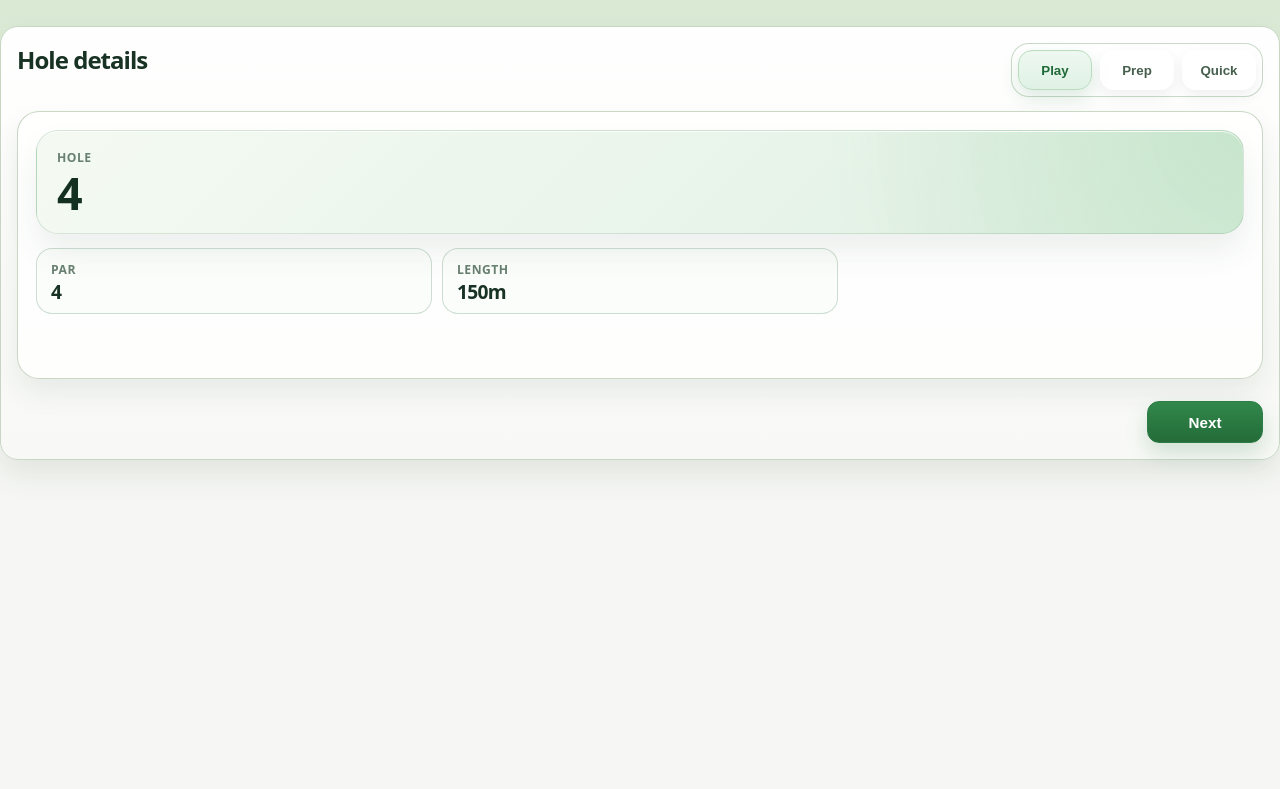
Test: VirtualCaddyPanel › enters the putting flow after a green hit and tracks putts
Click the button "Next" at (1205, 422), box top-left (1147, 401), bottom-right (1263, 443)
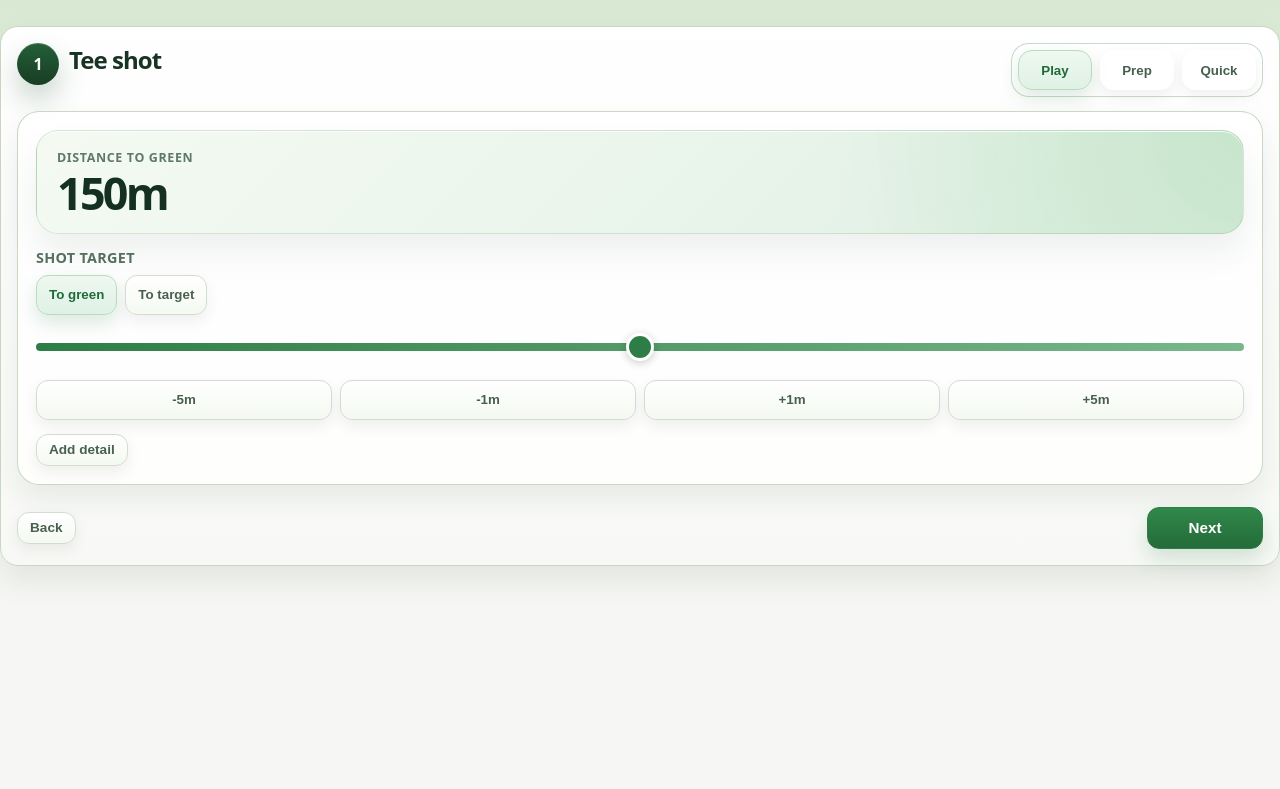
Click the button "Next" at (1205, 528), box top-left (1147, 506), bottom-right (1263, 548)
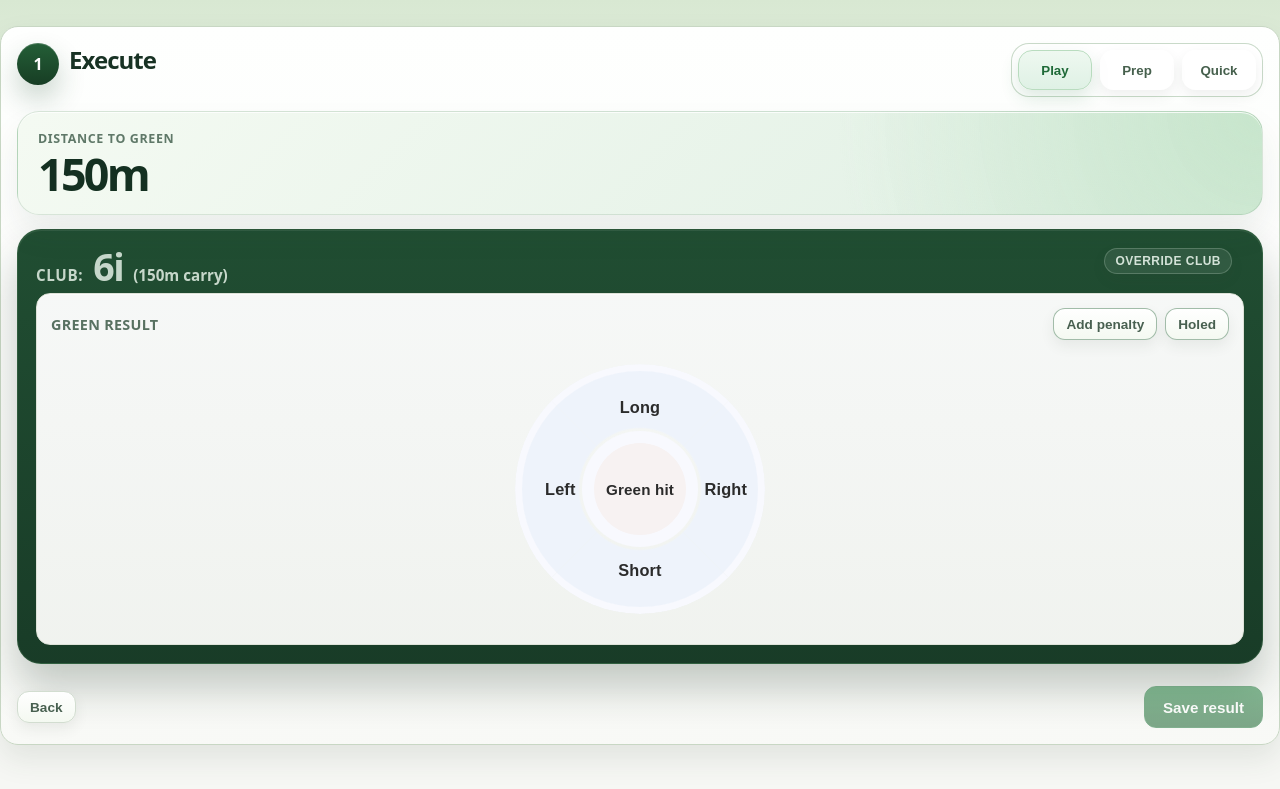
Click the button "Green hit" at (640, 489), box top-left (594, 443), bottom-right (686, 535)
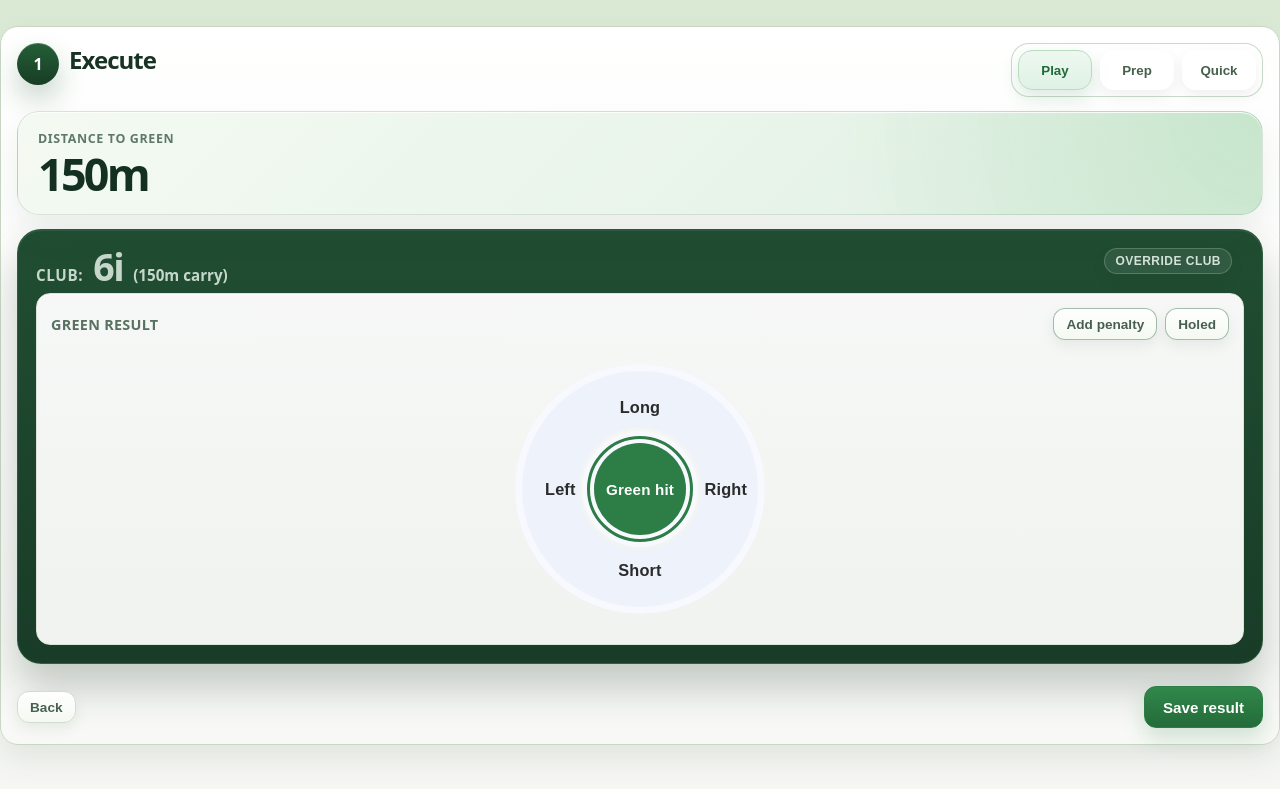
Click the button "Save result" at (1203, 707), box top-left (1144, 686), bottom-right (1263, 728)
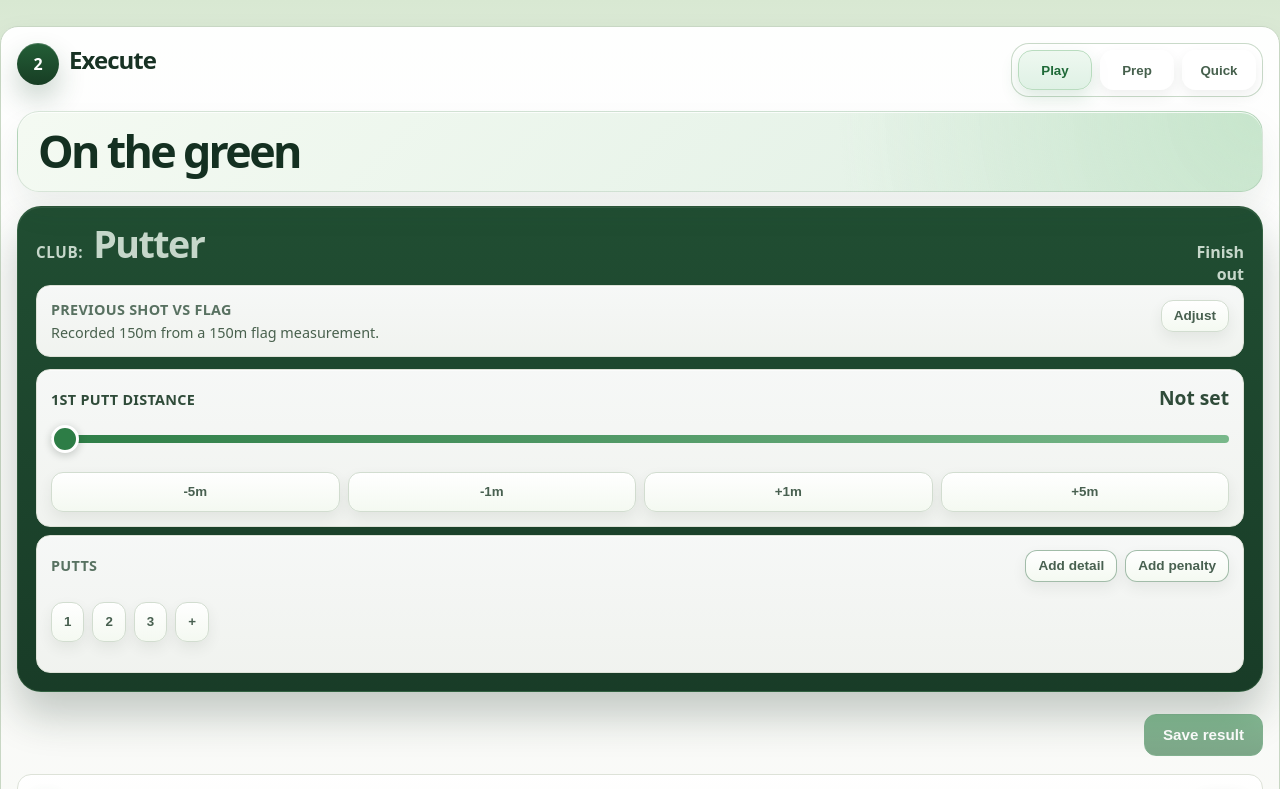
Click the button "2" at (109, 622), box top-left (92, 602), bottom-right (126, 642)
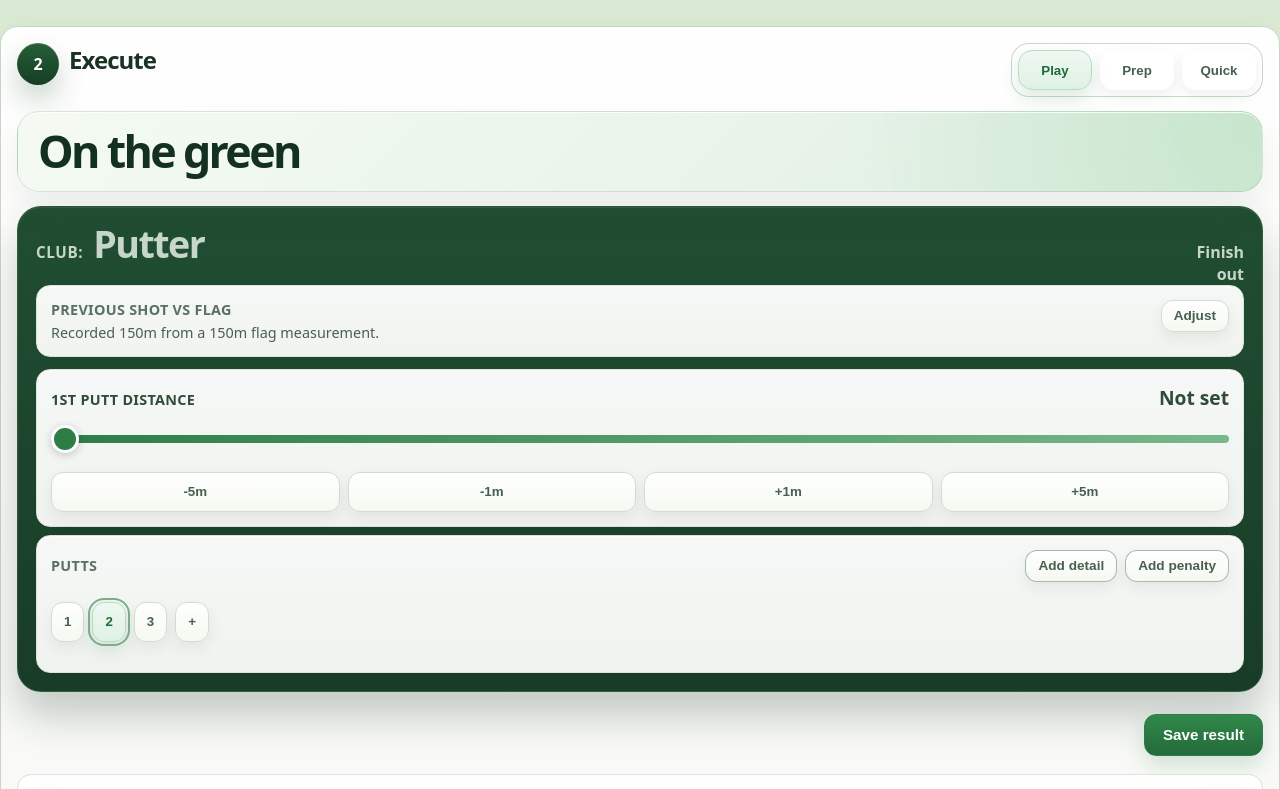
Click the button "Save result" at (1203, 734), box top-left (1144, 714), bottom-right (1263, 756)
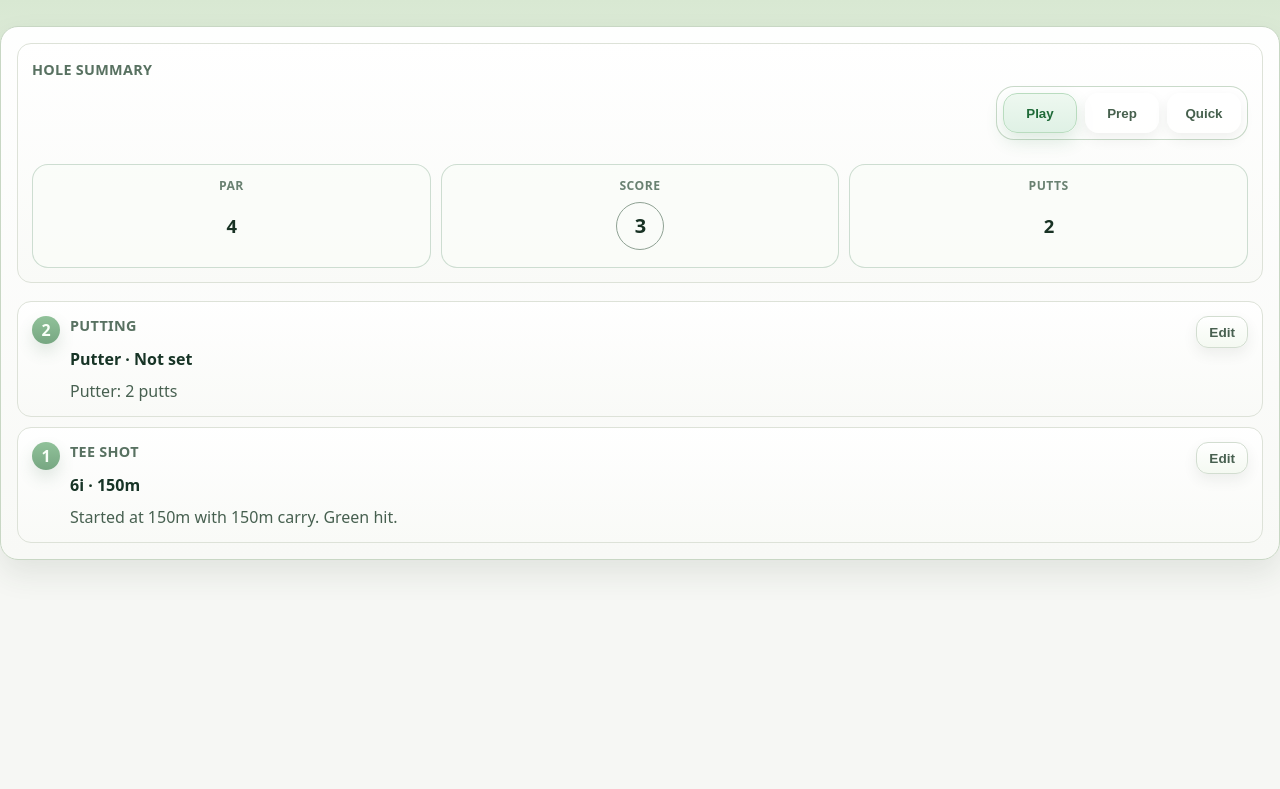
Now the text "Putter: 2 putts" is shown, box top-left (70, 380), bottom-right (178, 402)
